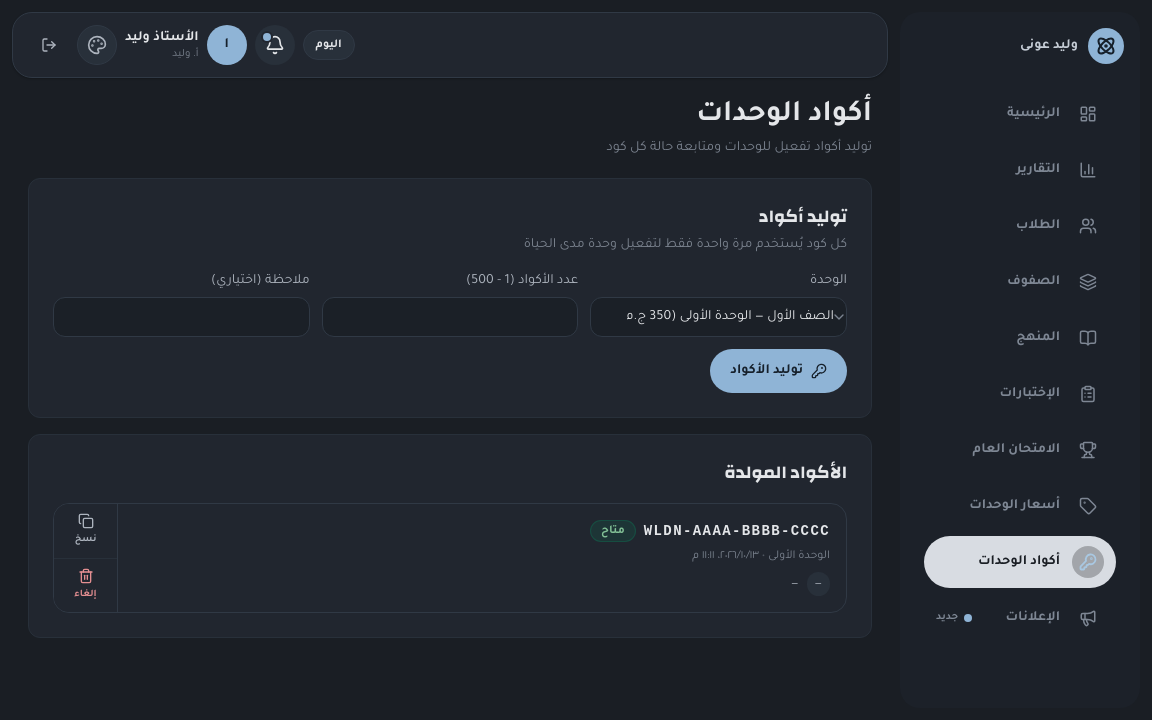
CodesPage › copies an individual code from the codes table with the row copy button
Check: the text "WLDN-AAAA-BBBB-CCCC" is shown, box x1=644 y1=521 x2=830 y2=541
Click the button with aria-label "نسخ WLDN-AAAA-BBBB-CCCC": (86, 531) x1=54 y1=504 x2=117 y2=558
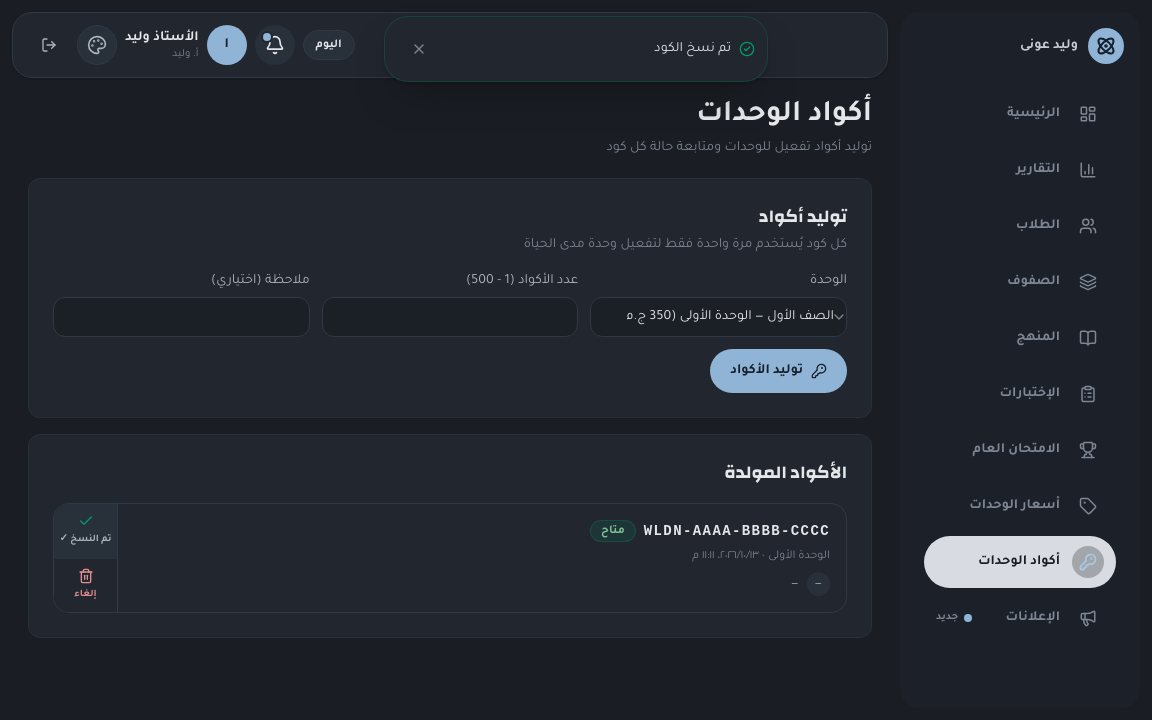
Check: the text "تم نسخ الكود" is shown, box x1=654 y1=42 x2=731 y2=56
Check: the text "تم النسخ ✓" is shown, box x1=60 y1=533 x2=111 y2=548
